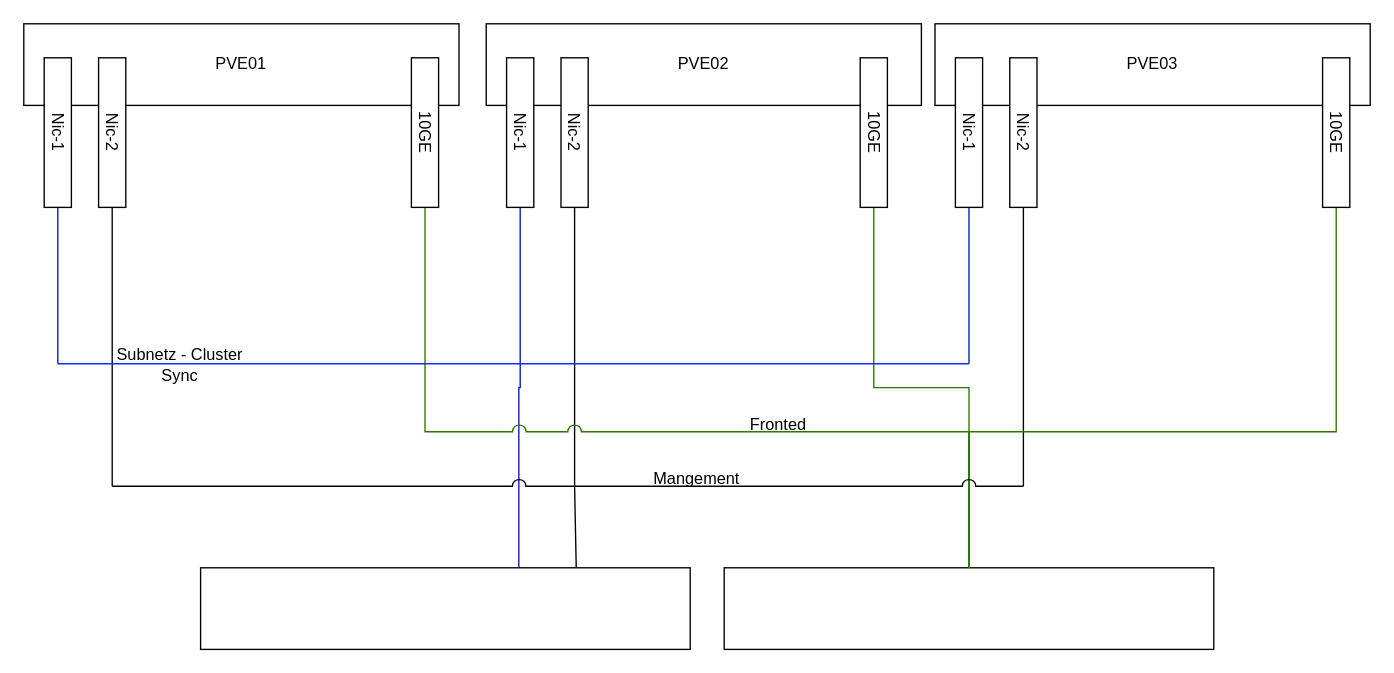
Image size: 1394x673. Some labels were removed from this diagram. Here are the shapes that lost their labels. From the top down, the centre of each, then its label:
[444,607]: Switch-A
[968,607]: Switch-B
